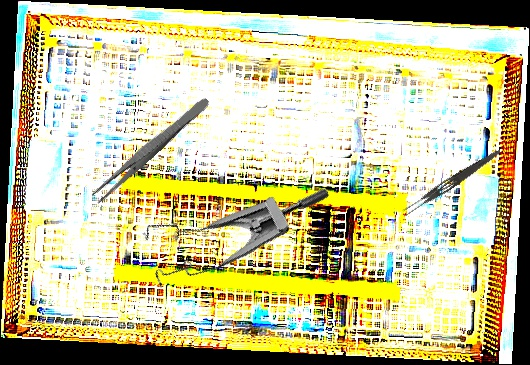Dressing Forceps: (89, 93, 212, 206), (399, 144, 503, 220)
Speculum: (124, 123, 334, 317)
